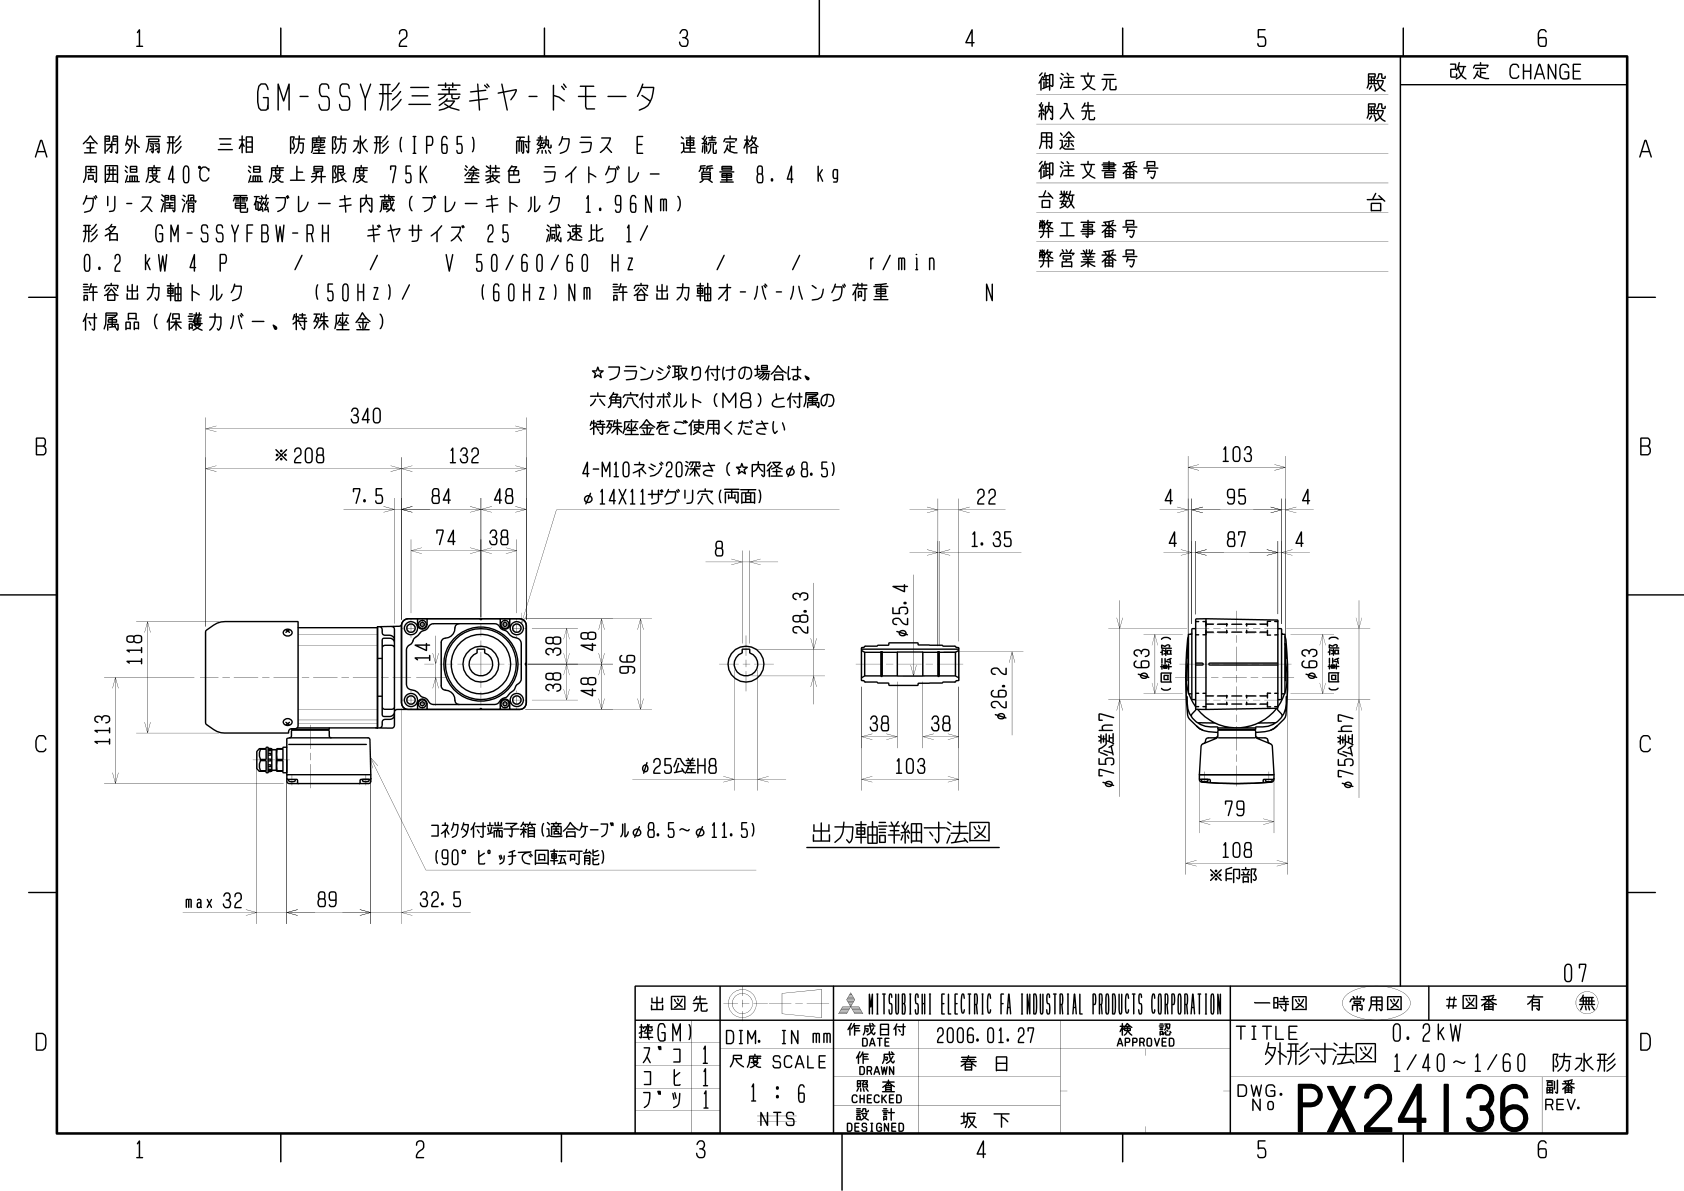GM_SSY_IP65_三相: (79, 347, 1383, 944)
